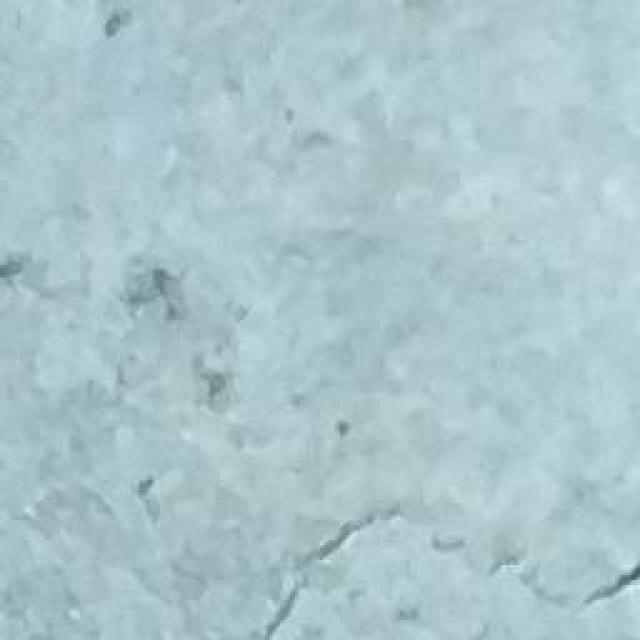Transverse: (233, 485, 640, 640)
